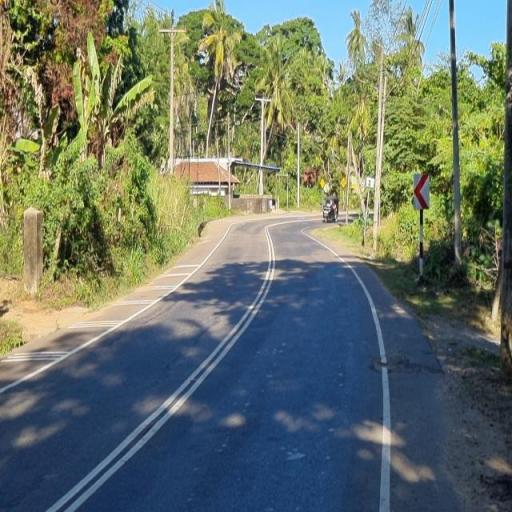double_white_line: (46, 219, 282, 511)
